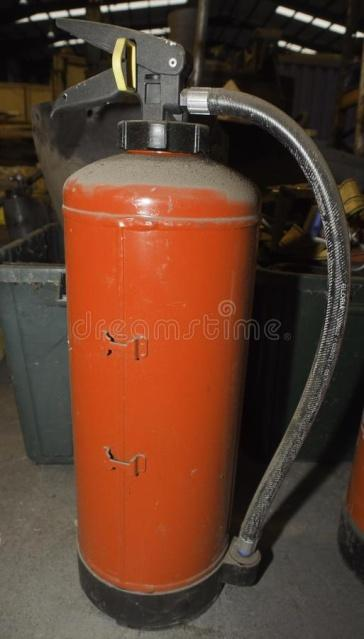APAR: (58, 17, 263, 630)
